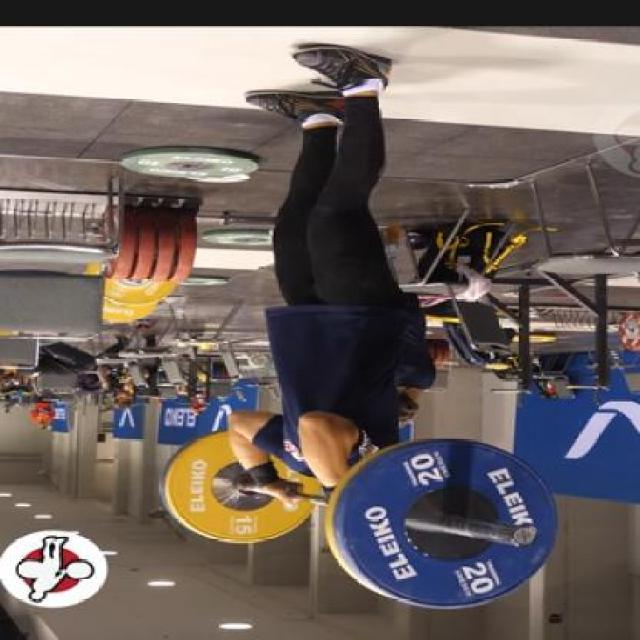Barbell: (503, 524, 545, 548)
